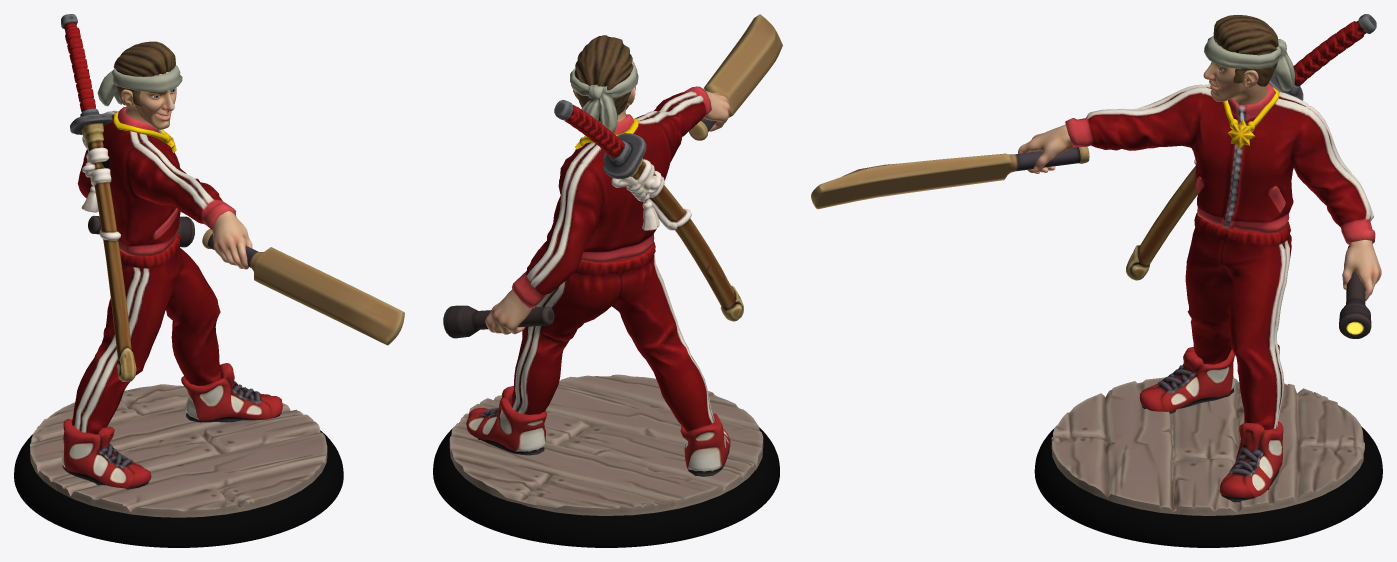
Rendered from oliver-swift.glb.
3 renders of one model, left to right at view 1: azimuth 30°, elevation 25°; view 2: azimuth 150°, elevation 25°; view 3: azimuth 270°, elevation 25°, orthographic. The views are drawn at different scales.
Size of the model in its own units: 0.6978 by 1 by 1.15.
1 material, 1 textured.
